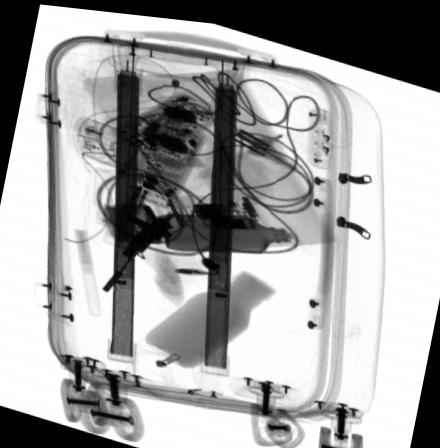Gun: (98, 199, 174, 291)
